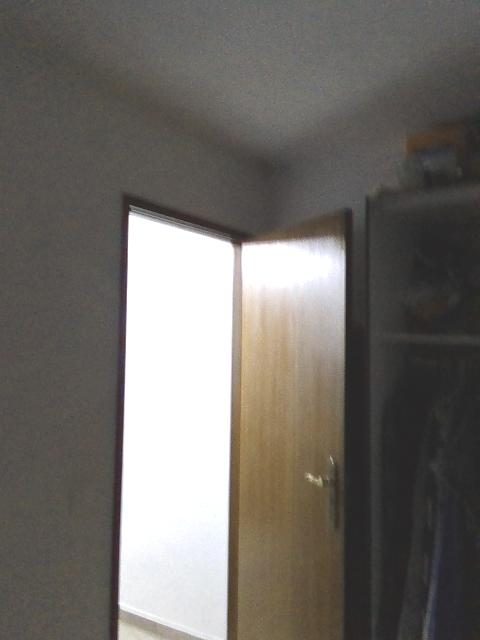open_door: (110, 189, 258, 638)
